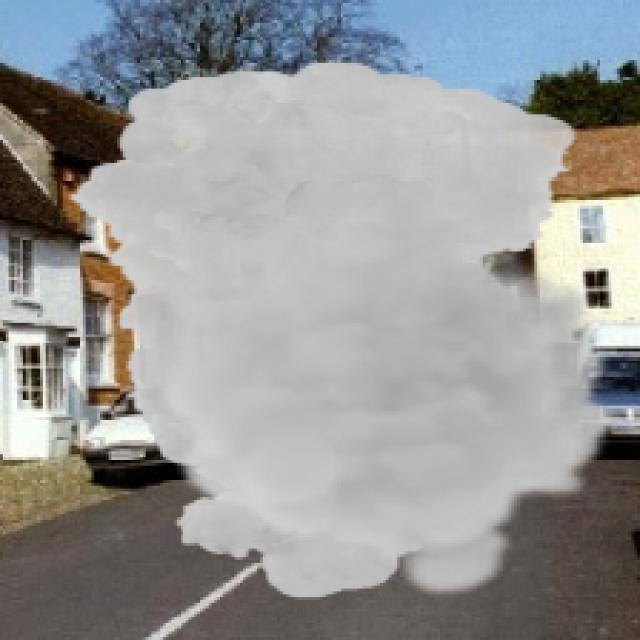Smoke: (65, 60, 620, 600)
